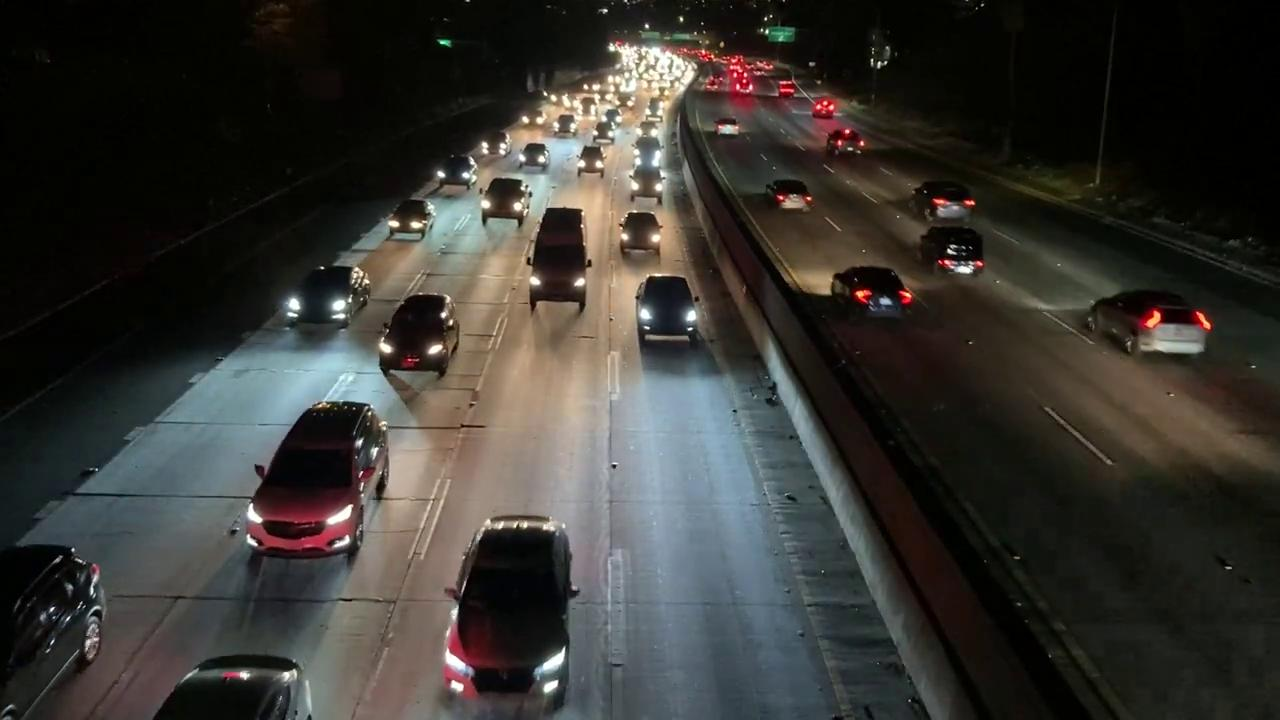car: (442, 512, 592, 714), (246, 392, 394, 572), (8, 524, 114, 720), (146, 636, 324, 720), (1078, 296, 1218, 361), (526, 204, 596, 306), (284, 260, 374, 336), (379, 293, 456, 377), (630, 264, 700, 346), (830, 268, 920, 321), (918, 229, 987, 276), (475, 176, 539, 224), (912, 181, 975, 221), (387, 193, 442, 237), (620, 200, 660, 260), (428, 153, 483, 185), (768, 179, 817, 212), (517, 139, 557, 177), (628, 163, 665, 200), (573, 141, 609, 178), (825, 129, 867, 157), (710, 114, 745, 138)
